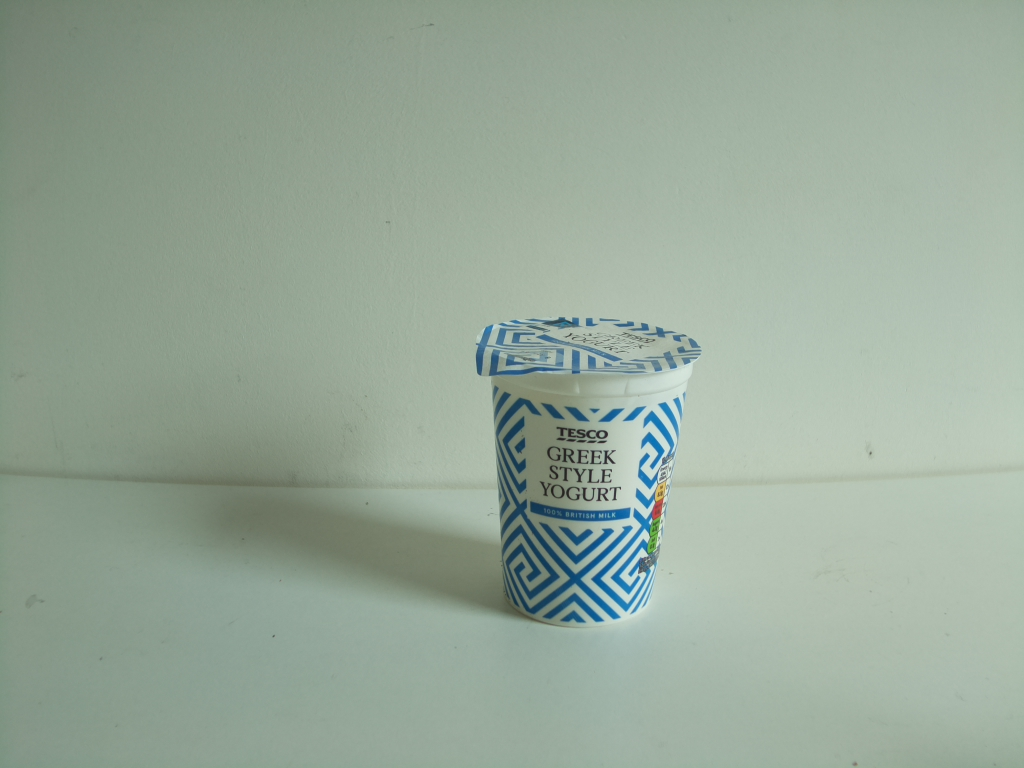yogurt: (468, 310, 708, 633)
